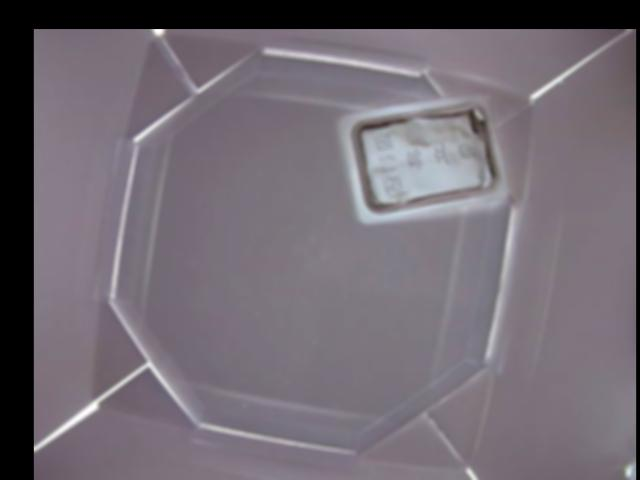Medicine: (336, 92, 504, 222)
